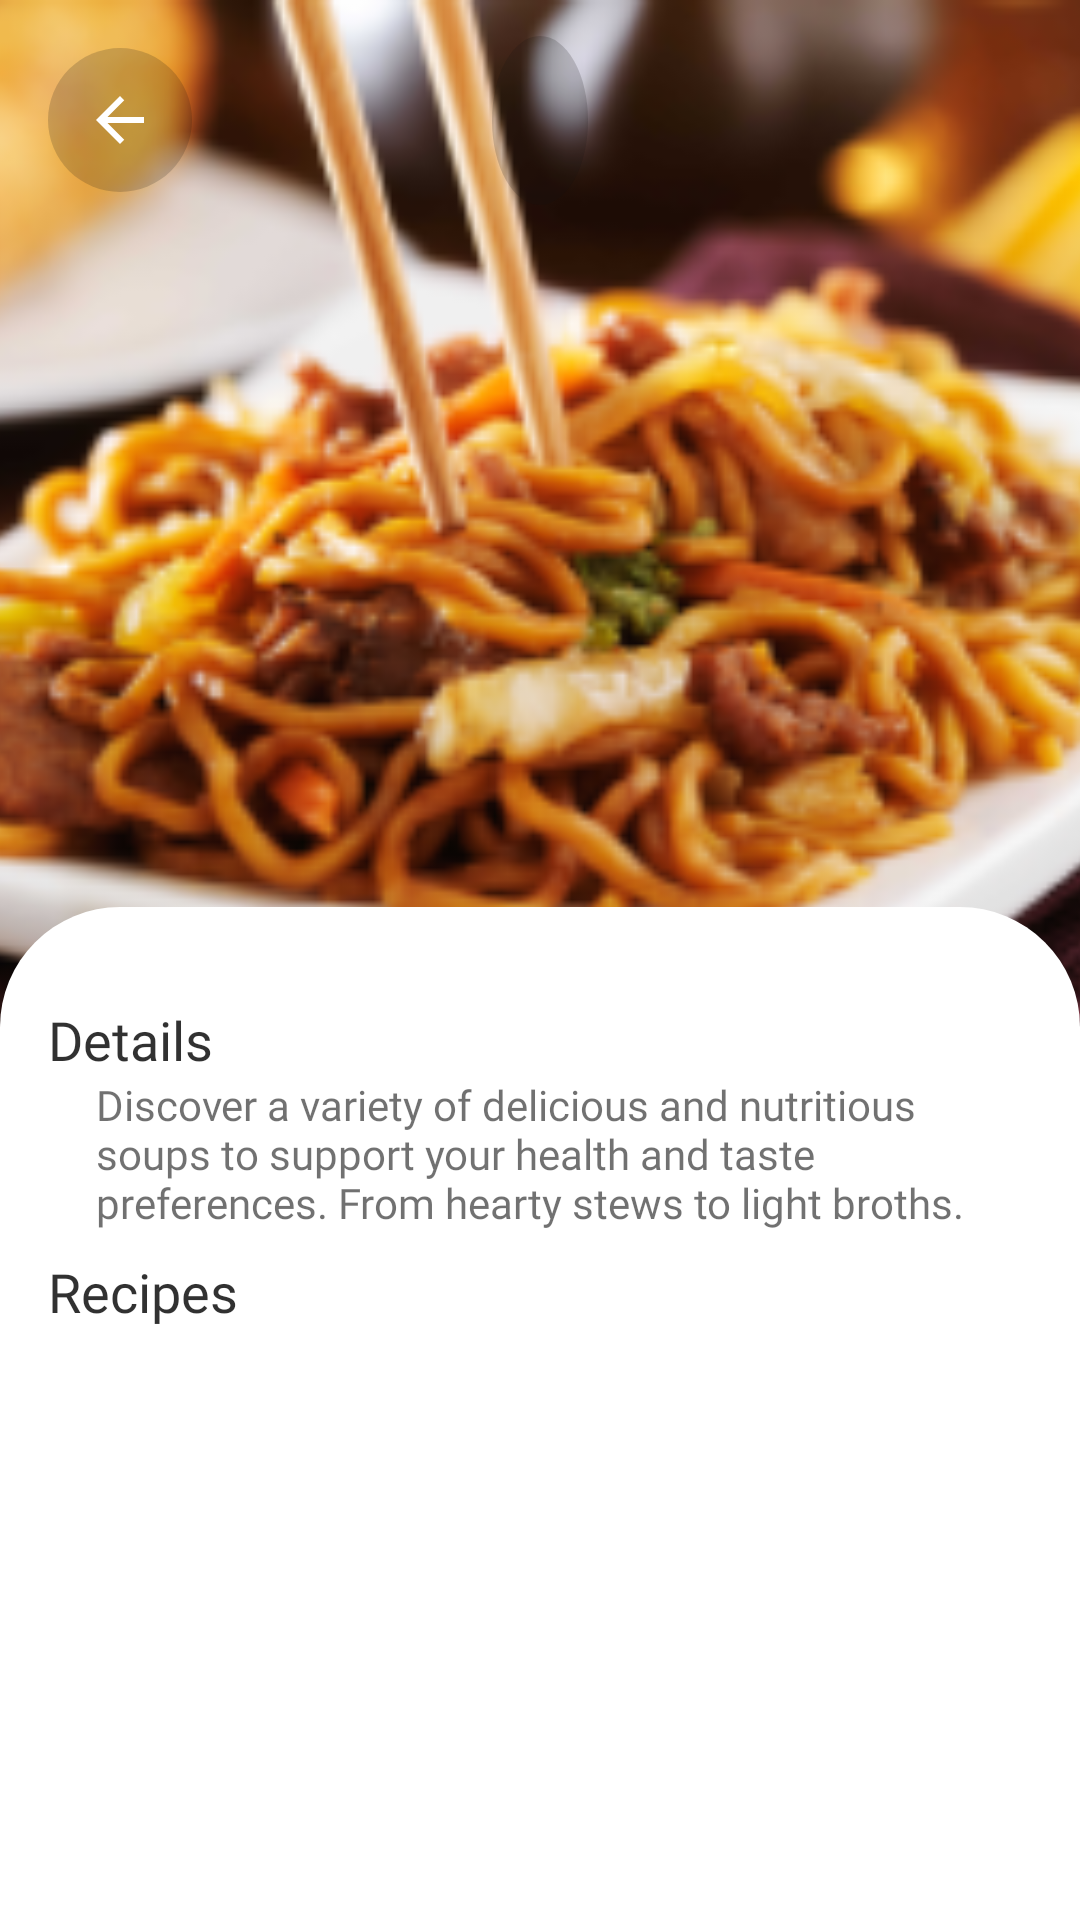

Icon click points for this 1080 x 1920 phone screenshot, format [x,y]:
arrow: [120,120]
